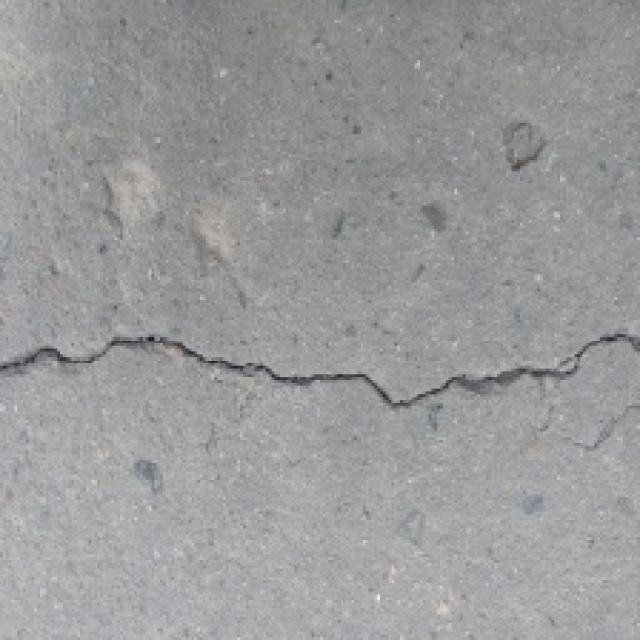crack: (0, 278, 640, 430)
